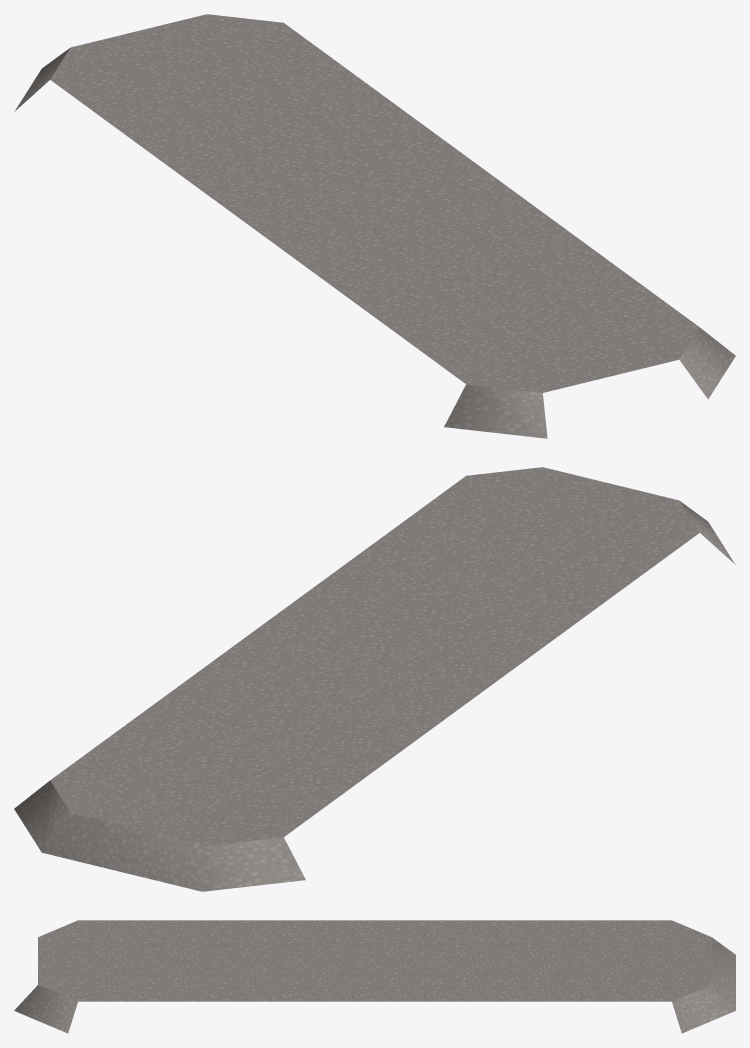
Rendered from kd_stage_135c43_4_29_bounded_piece_0.glb.
3 views of the same model, one above another, from view 1: azimuth 30°, elevation 25°; view 2: azimuth 150°, elevation 25°; view 3: azimuth 270°, elevation 25° (orthographic). The views are drawn at different scales.
Parts seen in each view (by area): view 1: kd_stage_135c43_4_29_bounded_piece_0; view 2: kd_stage_135c43_4_29_bounded_piece_0; view 3: kd_stage_135c43_4_29_bounded_piece_0.
Boxes of the visible parts, left/top/right/bottom form: kd_stage_135c43_4_29_bounded_piece_0: left=14, top=14, right=735, bottom=438; kd_stage_135c43_4_29_bounded_piece_0: left=14, top=467, right=735, bottom=891; kd_stage_135c43_4_29_bounded_piece_0: left=14, top=920, right=735, bottom=1033.
Bounding box in the file's own units: 0.4 × 0.04 × 1.2.
1 material, 1 textured.
